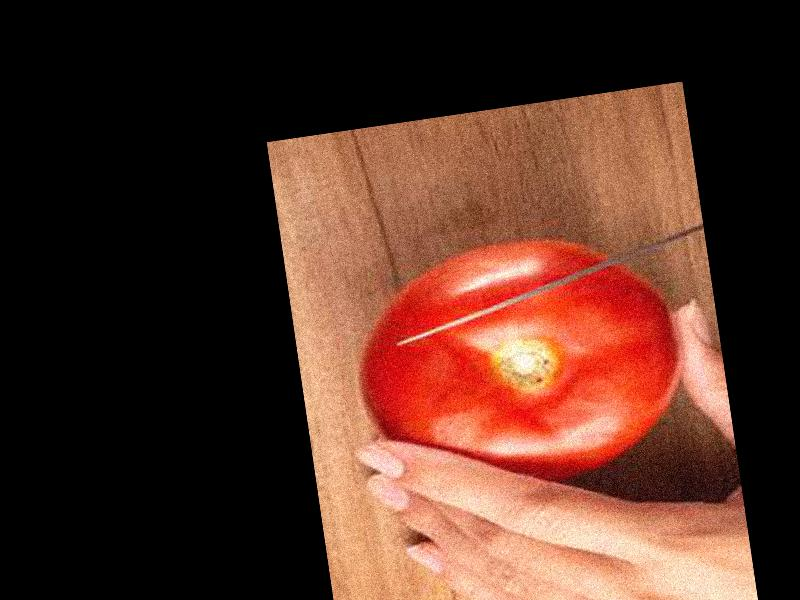Tomato: (346, 226, 692, 508)
